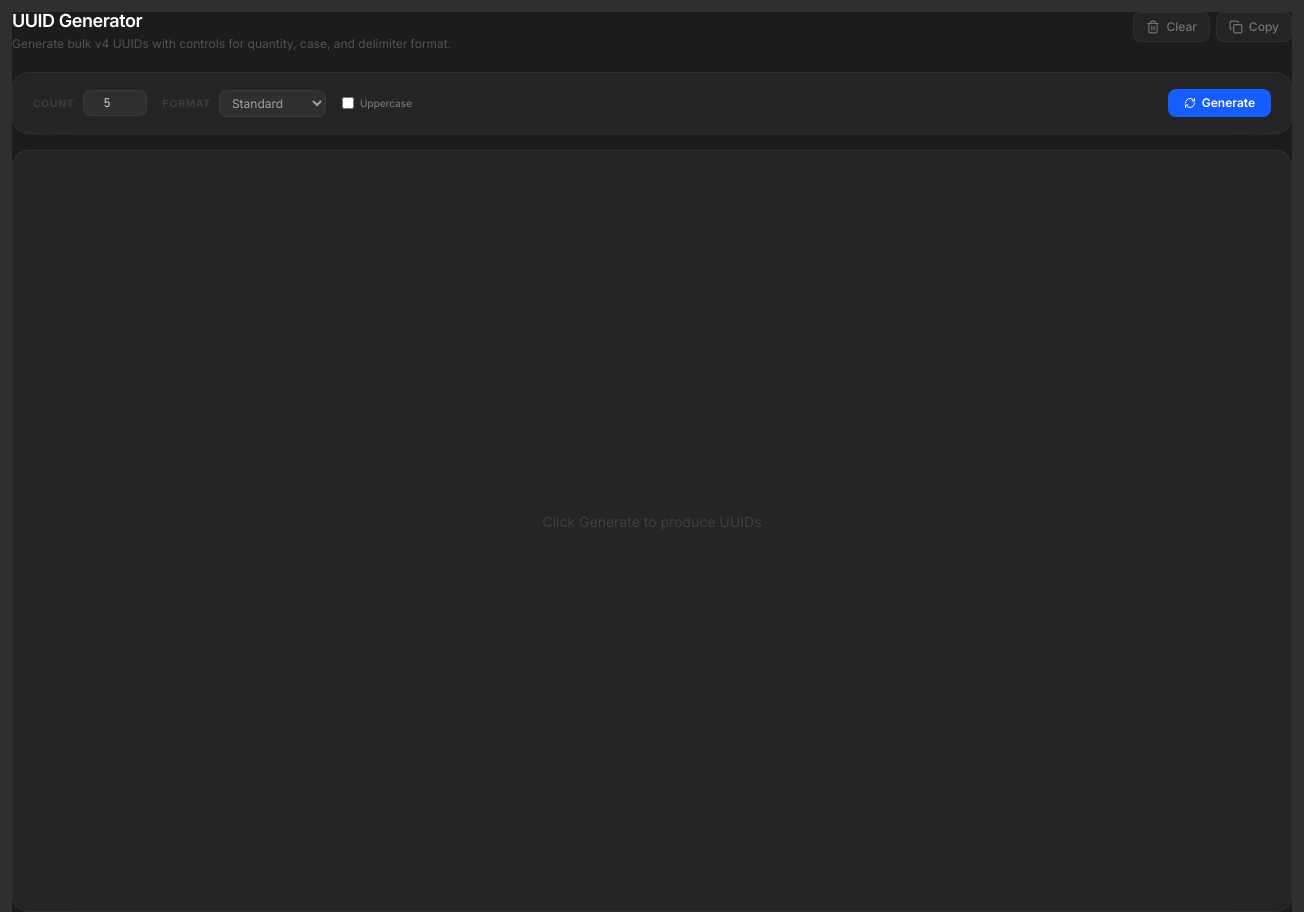
Test: UuidGenerator › respects the quantity input
Note: Use fireEvent.change to directly set quantity (avoids controlled-input cursor issues)
Replace the text in the number field showing "5" with "3" at (115, 103), box 83,90 -> 147,116
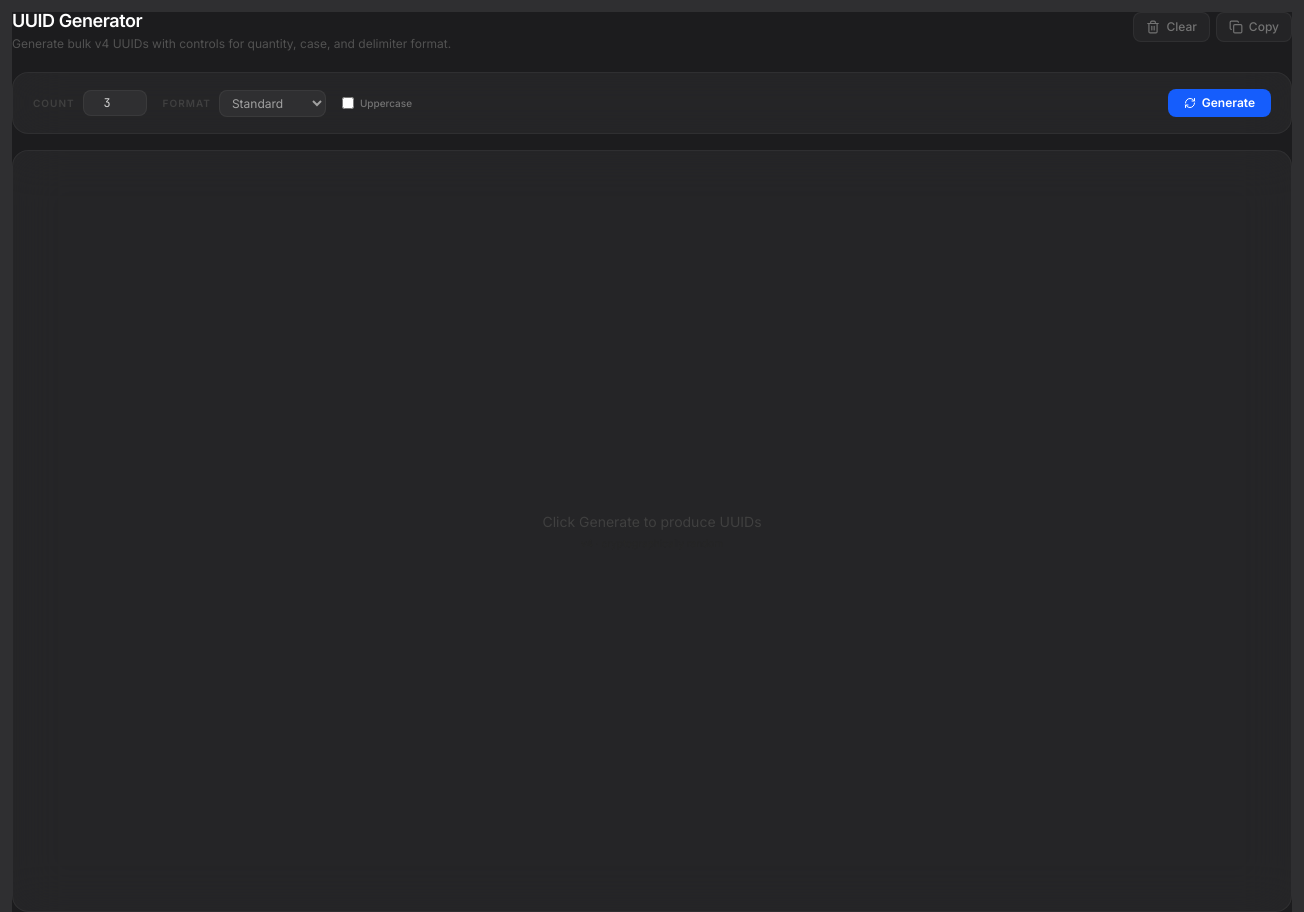
Click the button "Generate" at (1219, 103), box 1168,89 -> 1271,117
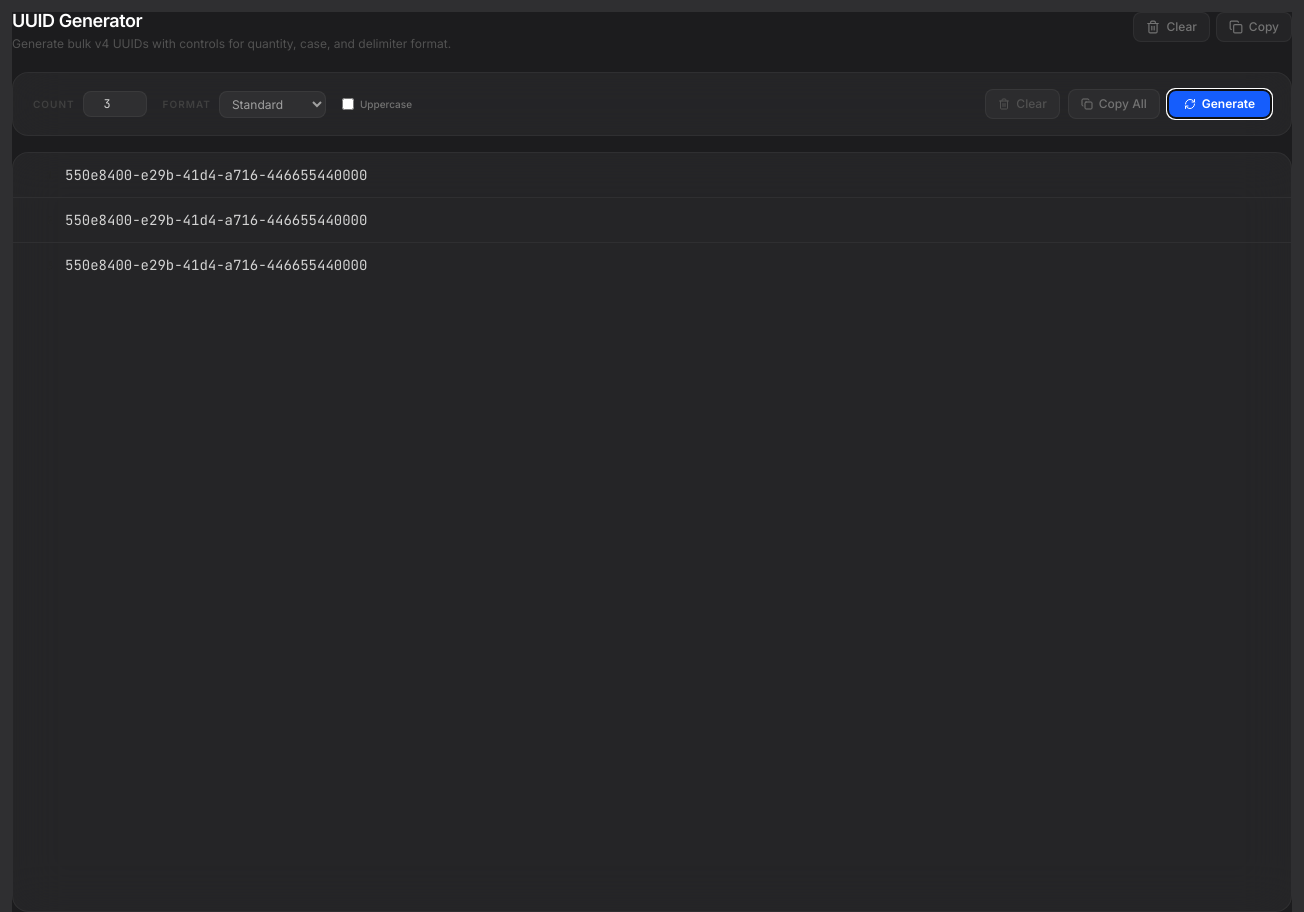
Expected: the text "550e8400-e29b-41d4-a716-446655440000" is shown 3 times, 65,166 -> 367,184; 65,211 -> 367,229; 65,256 -> 367,274
